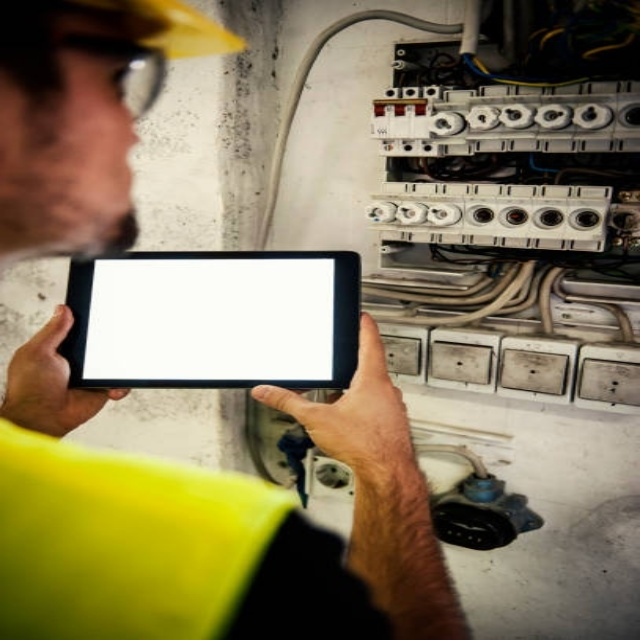Gafas: (39, 39, 175, 125)
Sin_guantes: (246, 309, 412, 472), (1, 300, 131, 440)
Sin_mascara: (57, 136, 145, 253)
